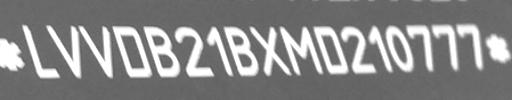letter: (20, 21, 62, 81), (110, 22, 154, 78), (140, 23, 182, 81), (74, 23, 116, 81), (247, 23, 293, 75), (172, 25, 216, 79), (43, 23, 85, 79), (278, 24, 324, 75), (310, 24, 350, 75), (338, 23, 378, 73), (222, 24, 260, 76), (383, 23, 417, 74), (404, 21, 436, 71), (204, 25, 236, 75), (454, 20, 484, 73), (364, 22, 394, 74), (430, 23, 460, 74)
